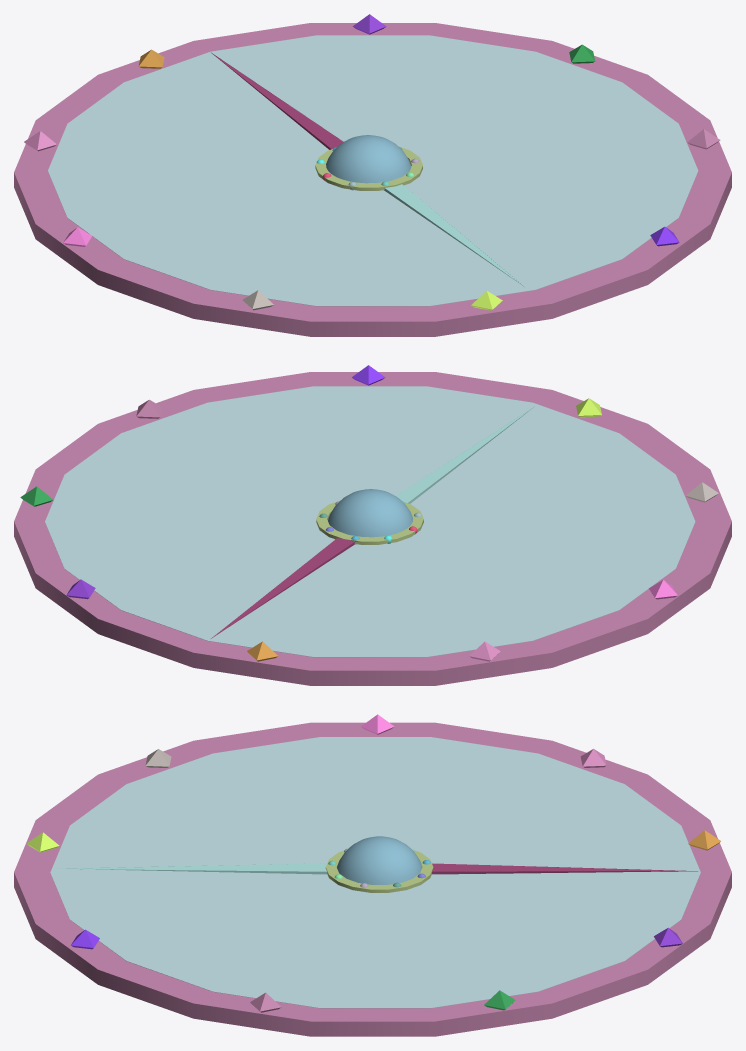
3 renders of one model, top to bottom at view 1: azimuth 30°, elevation 25°; view 2: azimuth 150°, elevation 25°; view 3: azimuth 270°, elevation 25°, orthographic.
Visible parts, largest first — view 1: split_parent_0, split_parent_16, Object_4, split_parent_8, split_parent_7, Object_7; view 2: split_parent_0, split_parent_16, Object_4, split_parent_7, split_parent_8, Object_7; view 3: split_parent_0, split_parent_16, Object_4, split_parent_8, split_parent_7, Object_7.
Part boxes in pixels (left/top/right/bottom): split_parent_0: left=48, top=35, right=698, bottom=306; split_parent_16: left=14, top=23, right=731, bottom=336; Object_4: left=326, top=135, right=410, bottom=183; split_parent_8: left=384, top=184, right=523, bottom=286; split_parent_7: left=211, top=52, right=343, bottom=149; Object_7: left=315, top=146, right=422, bottom=190; split_parent_0: left=45, top=386, right=695, bottom=657; split_parent_16: left=14, top=372, right=731, bottom=685; Object_4: left=328, top=489, right=412, bottom=537; split_parent_7: left=211, top=538, right=354, bottom=638; split_parent_8: left=396, top=406, right=534, bottom=503; Object_7: left=316, top=500, right=423, bottom=544; split_parent_0: left=50, top=737, right=700, bottom=1008; split_parent_16: left=14, top=722, right=731, bottom=1036; Object_4: left=337, top=836, right=422, bottom=884; split_parent_8: left=58, top=863, right=327, bottom=874; split_parent_7: left=432, top=863, right=697, bottom=874; Object_7: left=325, top=850, right=433, bottom=892.
Size of the model in its own units: 0.9871 by 0.0754 by 1.
